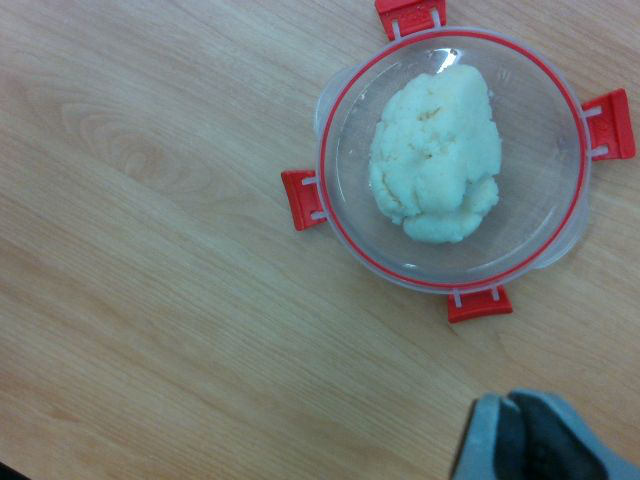mashed_potato: (370, 65, 500, 245)
